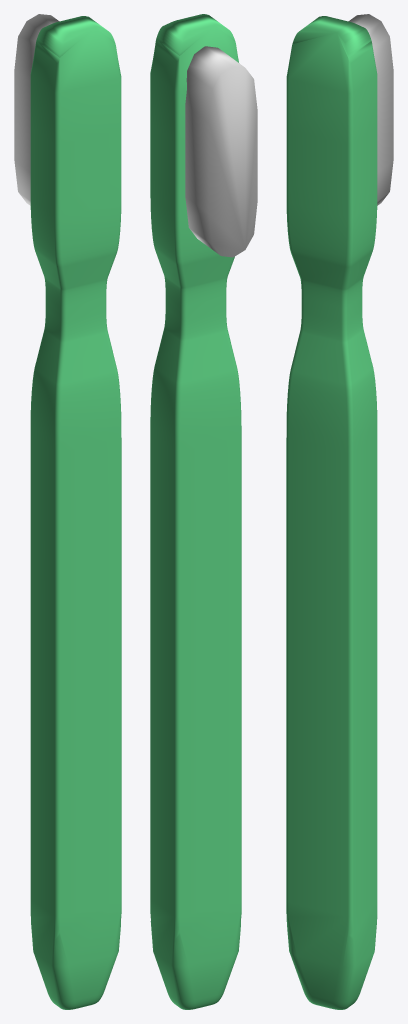
Rendered from Toothbrush.fbx.
The picture shows the model from 3 angles, left to right: view 1: azimuth 30°, elevation 25°; view 2: azimuth 210°, elevation 25°; view 3: azimuth 330°, elevation 25°; orthographic projection.
Parts seen in each view (by area): view 1: Cube, Cube.001; view 2: Cube, Cube.001; view 3: Cube, Cube.001.
Boxes of the visible parts, x1,y1,x2,y2 form: Cube: (30, 16, 121, 1009); Cube.001: (14, 14, 59, 205); Cube: (150, 14, 241, 1009); Cube.001: (185, 46, 257, 257); Cube: (286, 16, 377, 1009); Cube.001: (348, 14, 393, 205).
Size of the model in its own units: 14.27 by 201 by 18.93.
